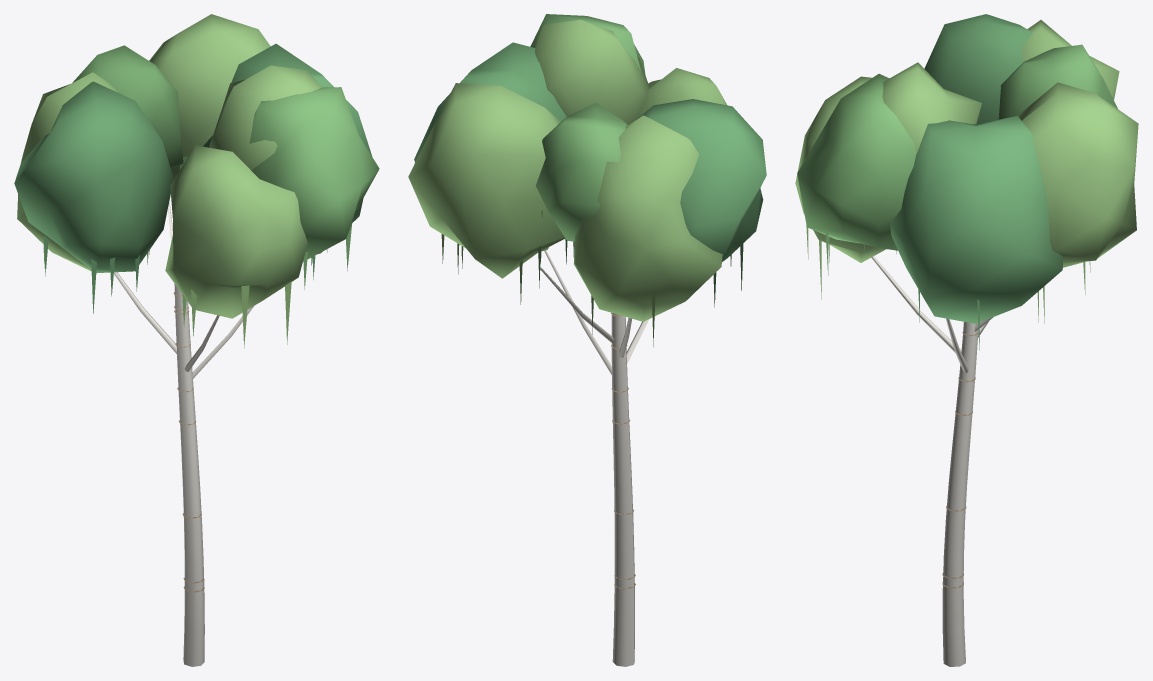
Rendered from birke_2.glb.
3 views of the same model, side by side, from view 1: azimuth 30°, elevation 25°; view 2: azimuth 150°, elevation 25°; view 3: azimuth 270°, elevation 25° (orthographic). The views are drawn at different scales.
Visible parts, largest first — view 1: G_birke_2; view 2: G_birke_2; view 3: G_birke_2.
Part boxes in pixels (x1,y1,x2,y2): G_birke_2: (14,14,379,666); G_birke_2: (408,14,766,666); G_birke_2: (795,14,1138,666).
Size of the model in its own units: 5.6 by 9.83 by 4.89.
